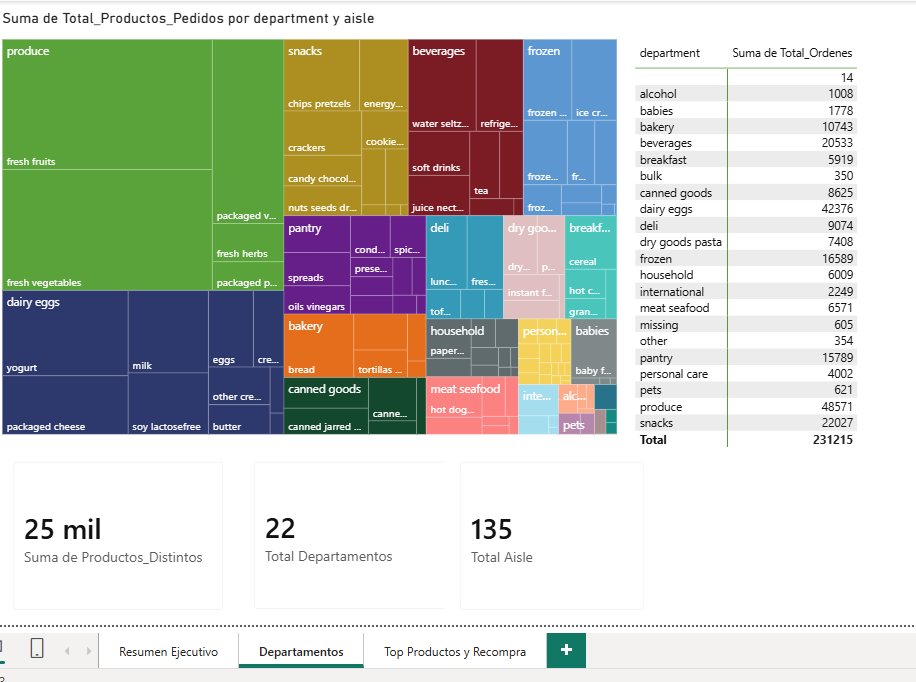

This screenshot's page, from the dashboard's own definition file:
{"tool":"powerbi","page":{"name":"Departamentos","canvas":[1280,720],"ordinal":1},"visuals":[{"type":"treemap","fields":{"Values":["Sum(kpi_pedidos_por_departamento_aisle.Total_Productos_Pedidos)"],"Group":["kpi_pedidos_por_departamento_aisle.department"],"Details":["kpi_pedidos_por_departamento_aisle.aisle"]},"box":[0,9.5,719.2,495.7],"z":0},{"type":"pivotTable","fields":{"Rows":["kpi_pedidos_por_departamento_aisle.department"],"Values":["Sum(kpi_pedidos_por_departamento_aisle.Total_Ordenes)"]},"box":[730.1,44.7,273.6,483.6],"z":1000},{"type":"cardVisual","fields":{"Data":["Sum(kpi_pedidos_por_departamento_aisle.Productos_Distintos)"]},"box":[0,514.7,277.7,205.9],"z":2000},{"type":"cardVisual","fields":{"Data":["kpi_pedidos_por_departamento_aisle.Total Departamentos"]},"box":[277.7,514.7,270.9,204.5],"z":3000},{"type":"cardVisual","fields":{"Data":["kpi_pedidos_por_departamento_aisle.Total Aisle"]},"box":[516.1,514.7,247.9,205.9],"z":4000}]}

Visuals, with their boxes on the page's 1280x720 design canvas (x1, y1, x2, y2). These are canvas units, not pixel positions in the 916x682 screenshot, which may show the page scaled, cropped or inside an application window:
treemap - Sum(kpi_pedidos_por_departamento_aisle.Total_Productos_Pedidos) x kpi_pedidos_por_departamento_aisle.department: bbox(0, 10, 719, 505)
pivotTable - kpi_pedidos_por_departamento_aisle.department x Sum(kpi_pedidos_por_departamento_aisle.Total_Ordenes): bbox(730, 45, 1004, 528)
cardVisual - Sum(kpi_pedidos_por_departamento_aisle.Productos_Distintos): bbox(0, 515, 278, 721)
cardVisual - kpi_pedidos_por_departamento_aisle.Total Departamentos: bbox(278, 515, 549, 719)
cardVisual - kpi_pedidos_por_departamento_aisle.Total Aisle: bbox(516, 515, 764, 721)
